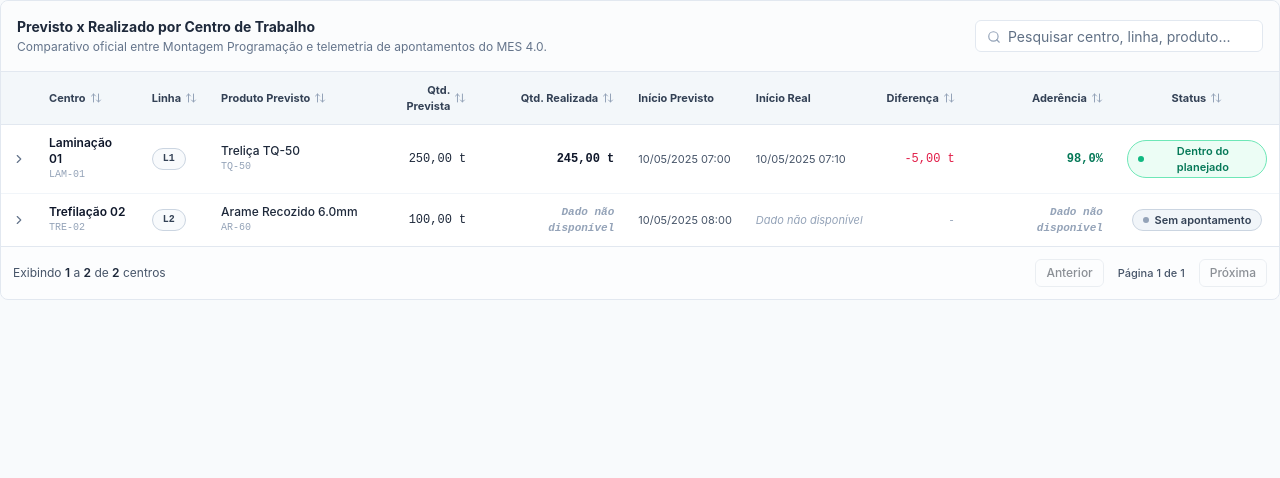
Test: Visão Eficiência Centro - Testes de Componentes e Aceitação › expande a linha do centro e exibe detalhes operacionais de ordens e paradas
Expected: the text "OP-1001" is not shown
# Clica no botão de expansão da primeira linha
Click the button titled "Expandir detalhes operacionais" below "Laminação 01" at (19, 159), box [9,149,29,169]
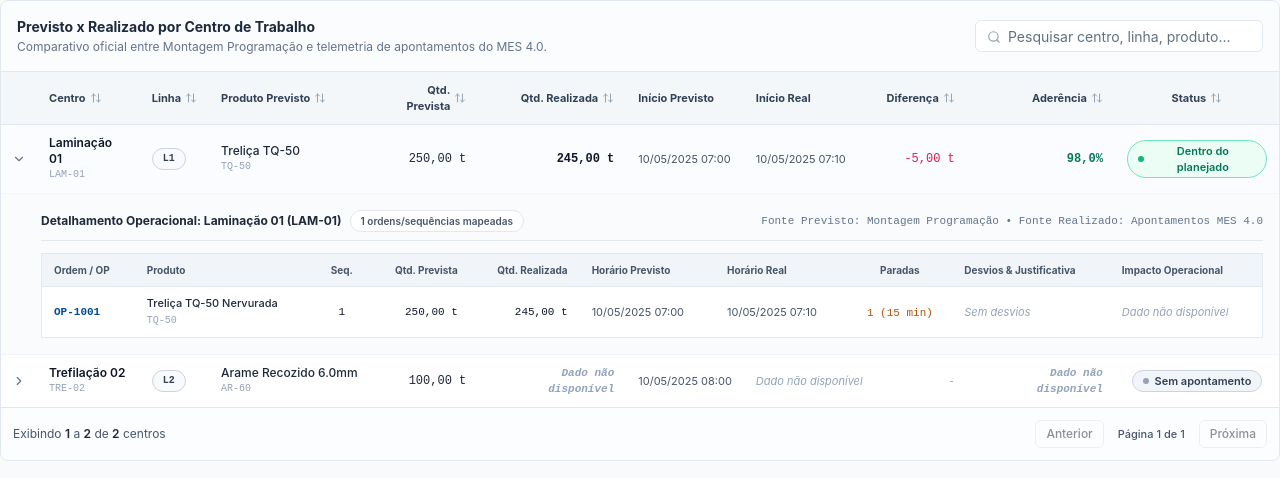
Now the text "OP-1001" is shown, box [42,286,135,338]
Now the text "Treliça TQ-50 Nervurada" is shown, box [147,296,278,310]
Now the text "1 (15 min)" is shown, box [867,306,933,318]
